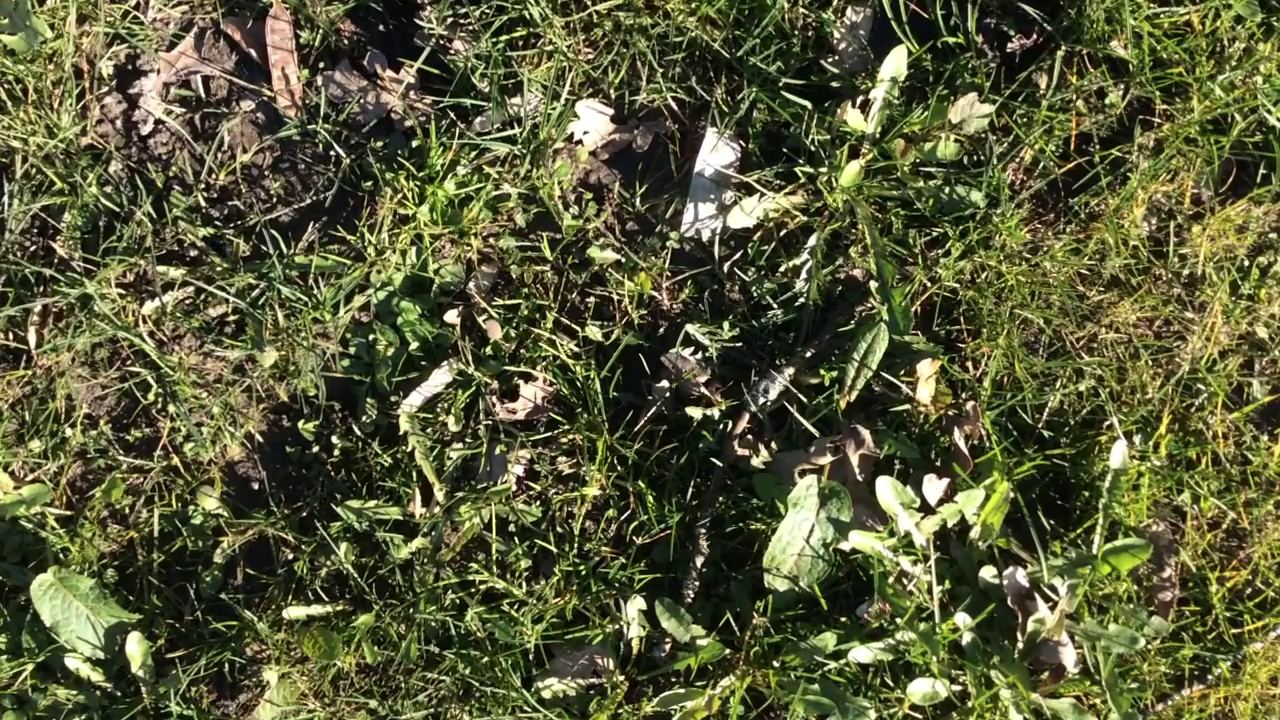rumex: (28, 570, 148, 680), (761, 474, 853, 610), (840, 320, 891, 406)
